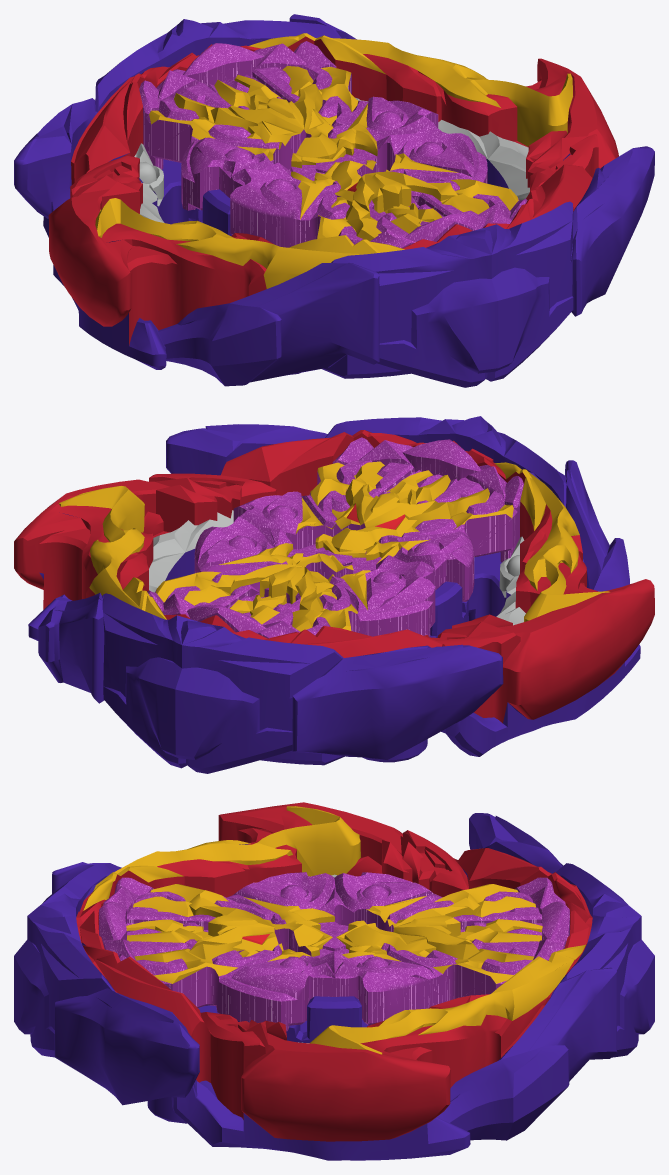
The model's file is genesisg5eclipsegeo.fbx.
3 renders of one model, top to bottom at view 1: azimuth 30°, elevation 25°; view 2: azimuth 150°, elevation 25°; view 3: azimuth 270°, elevation 25°, orthographic. The views are drawn at different scales.
Parts seen in each view (by area): view 1: EclipseGenesisG5_Layer; view 2: EclipseGenesisG5_Layer; view 3: EclipseGenesisG5_Layer.
Boxes of the visible parts, <box> form: EclipseGenesisG5_Layer: <box>14,14,654,387</box>; EclipseGenesisG5_Layer: <box>14,416,654,773</box>; EclipseGenesisG5_Layer: <box>14,802,654,1160</box>.
Bounding box in the file's own units: 0.5936 × 0.1491 × 0.6101.
Materials: 2 (2 with a texture image).
